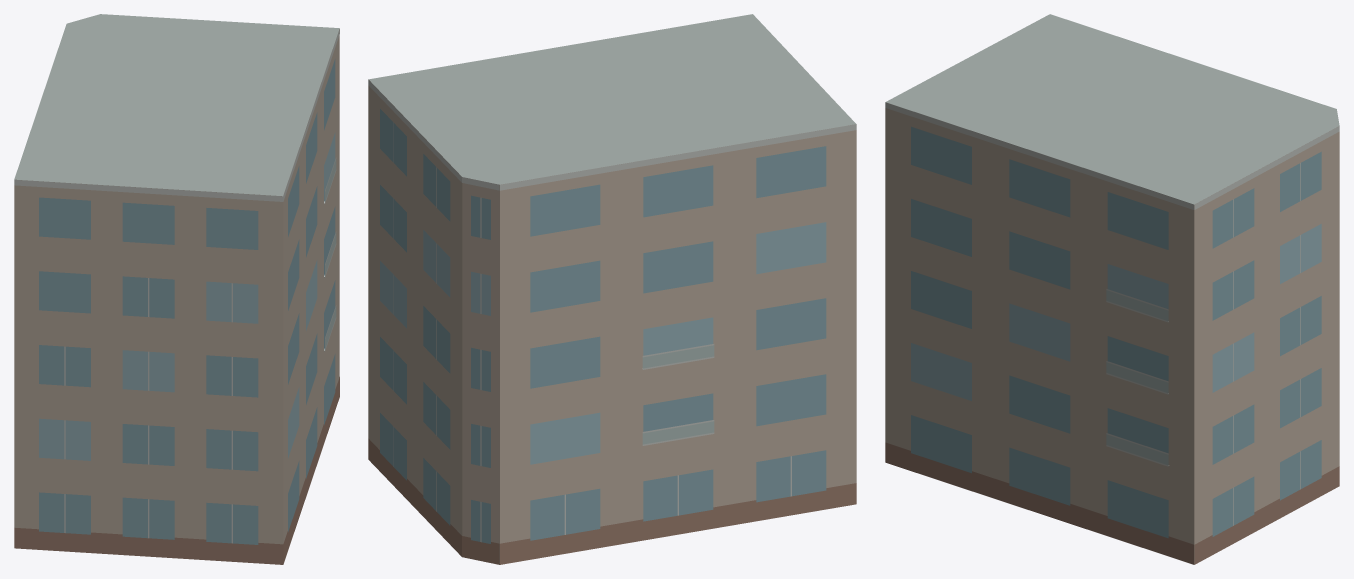
The model's file is survey-upis-32851193.glb.
The picture shows the model from 3 angles, left to right: view 1: azimuth 30°, elevation 25°; view 2: azimuth 150°, elevation 25°; view 3: azimuth 270°, elevation 25°; orthographic projection. The views are drawn at different scales.
Visible parts, largest first — view 1: survey-upis-32851193.tmp; view 2: survey-upis-32851193.tmp; view 3: survey-upis-32851193.tmp.
Boxes of the visible parts, bbox=[...] form: survey-upis-32851193.tmp: bbox=[14, 14, 339, 564]; survey-upis-32851193.tmp: bbox=[368, 14, 856, 564]; survey-upis-32851193.tmp: bbox=[885, 14, 1339, 564].
Size of the model in its own units: 17.58 by 15.5 by 17.72.
